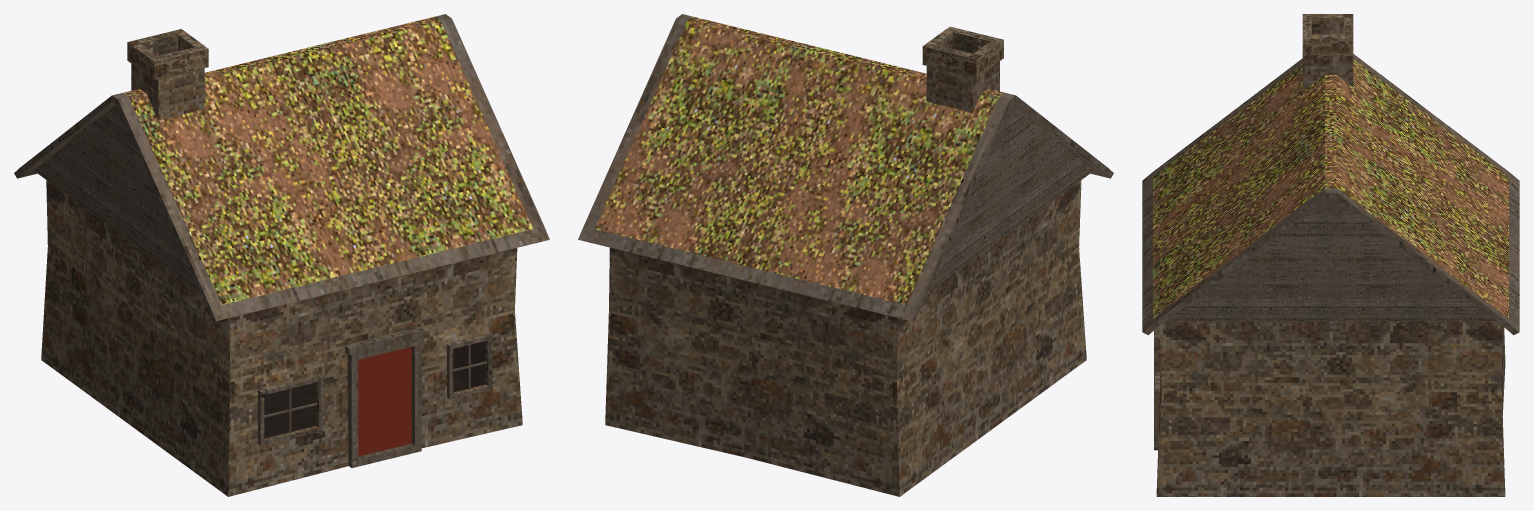
The model's file is GD 3D Home 2 Stylized.fbx.
3 renders of one model, left to right at view 1: azimuth 30°, elevation 25°; view 2: azimuth 150°, elevation 25°; view 3: azimuth 270°, elevation 25°, orthographic. The views are drawn at different scales.
Visible parts, largest first — view 1: Home Basic 2 IVG 3D.002; view 2: Home Basic 2 IVG 3D.002; view 3: Home Basic 2 IVG 3D.002.
Part boxes in pixels (x1=…): Home Basic 2 IVG 3D.002: x1=14, y1=14, x2=549, y2=496; Home Basic 2 IVG 3D.002: x1=578, y1=14, x2=1113, y2=496; Home Basic 2 IVG 3D.002: x1=1142, y1=14, x2=1519, y2=496.
Size of the model in its own units: 741 by 798 by 777.
